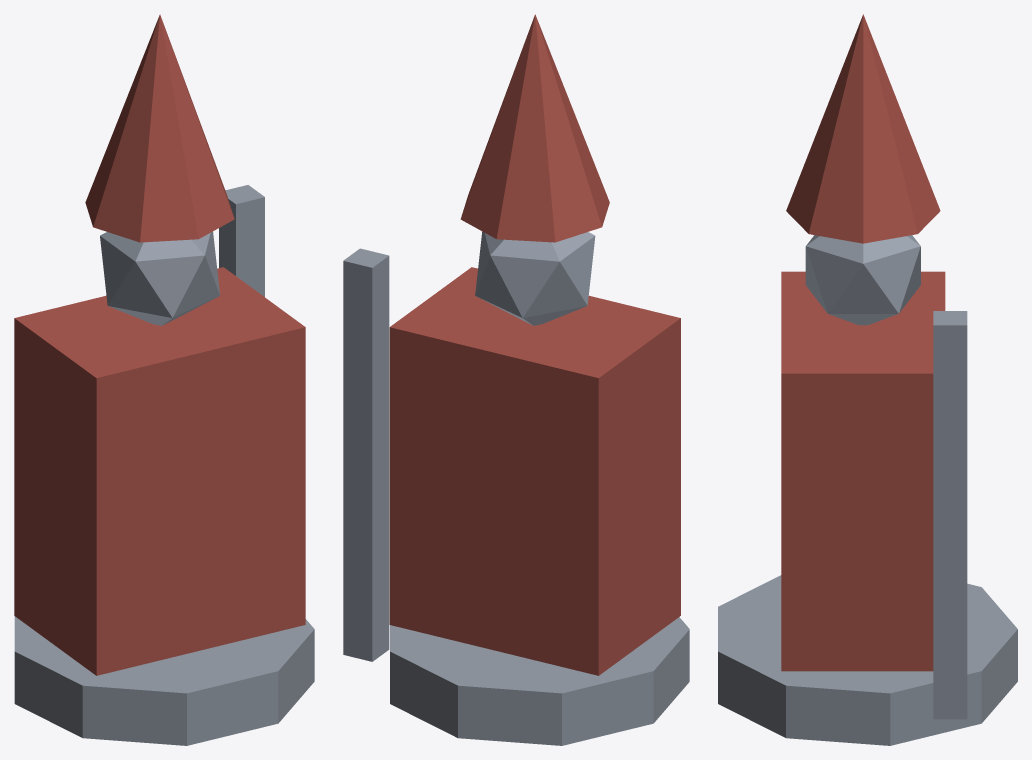
The model's file is toy_soldier.fbx.
The picture shows the model from 3 angles, left to right: view 1: azimuth 30°, elevation 25°; view 2: azimuth 150°, elevation 25°; view 3: azimuth 270°, elevation 25°; orthographic projection.
Parts seen in each view (by area): view 1: toy_soldier; view 2: toy_soldier; view 3: toy_soldier.
Boxes of the visible parts, bbox=[...] form: toy_soldier: bbox=[14, 14, 314, 745]; toy_soldier: bbox=[343, 14, 689, 745]; toy_soldier: bbox=[718, 14, 1017, 745].
Bounding box in the file's own units: 63.95 × 150 × 61.05.
